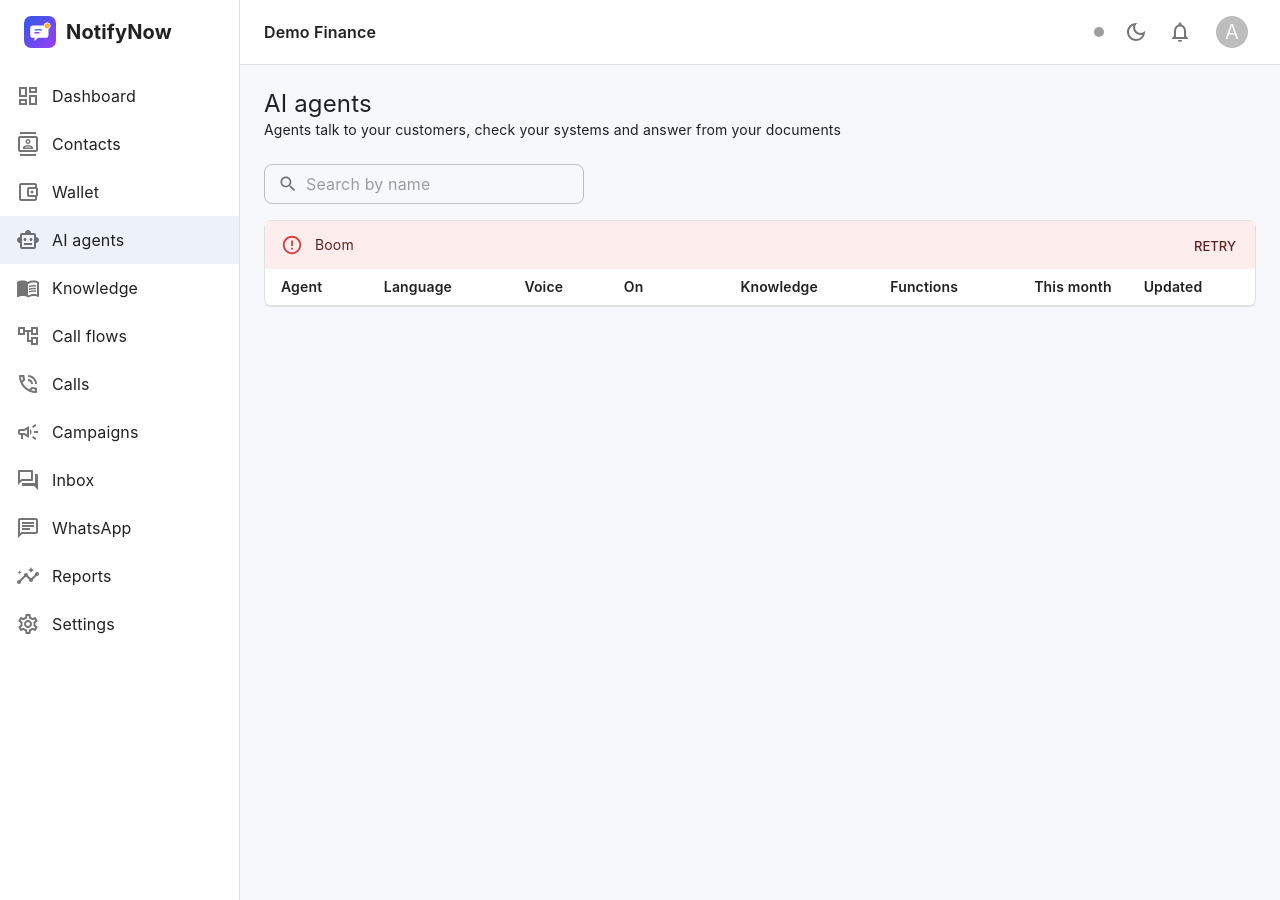
Test case: /agents list › shows a retry on errors
Step 1. Click the button "Retry" → x=1215, y=246, box x1=1183 y1=231 x2=1247 y2=262
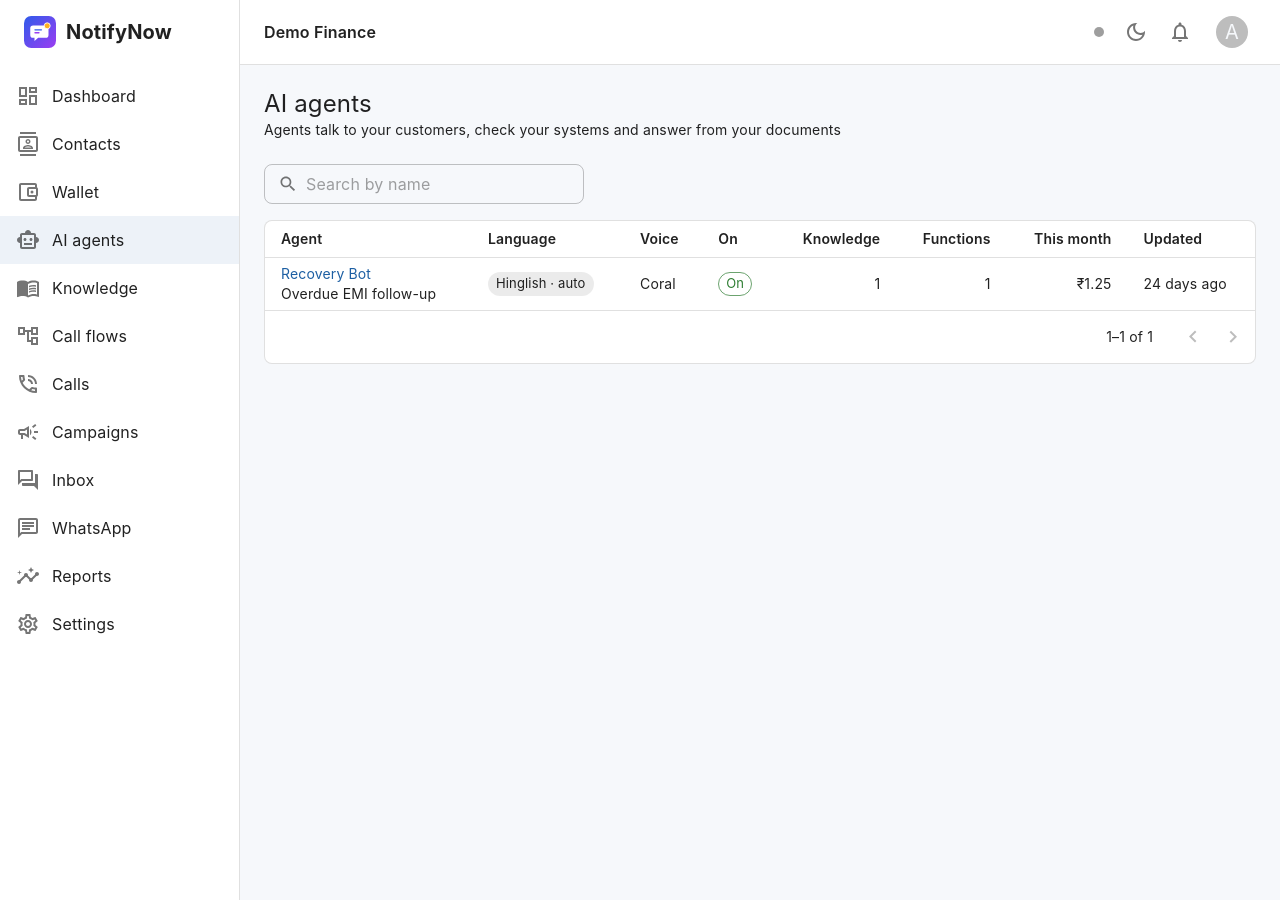
Result: the link "Recovery Bot" is shown at x1=281 y1=265 x2=371 y2=282
